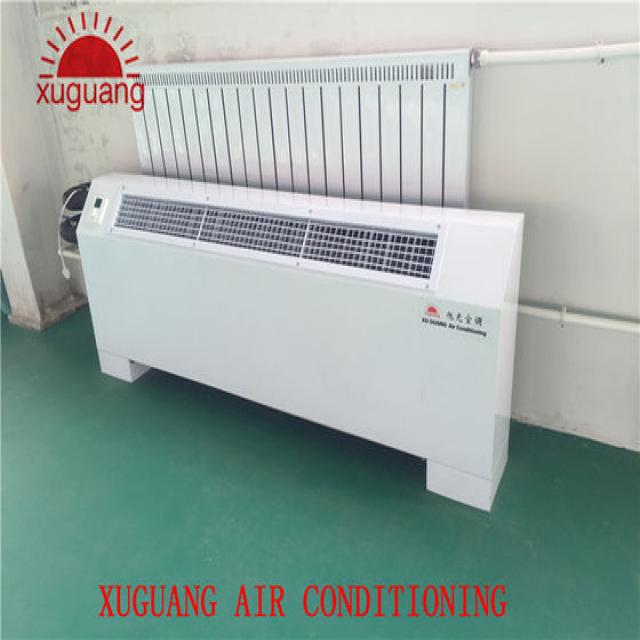appliances: (78, 175, 521, 508)
